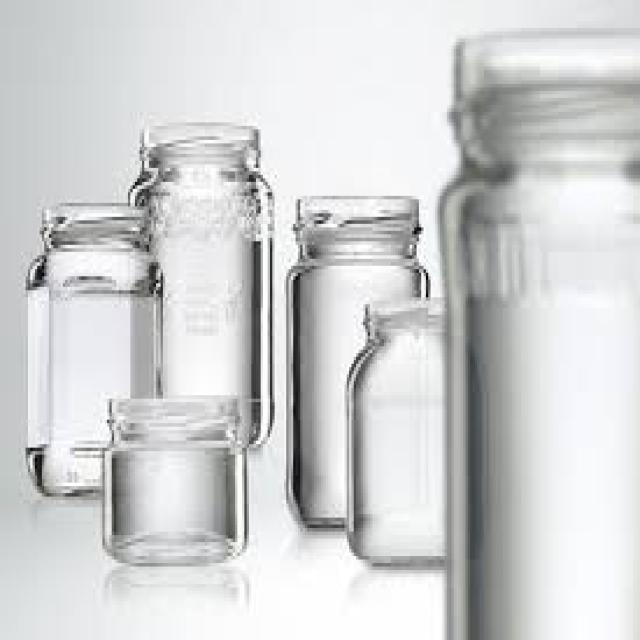glass: (438, 28, 638, 636), (284, 196, 426, 538), (126, 123, 272, 448), (26, 199, 161, 500), (345, 297, 484, 570), (100, 395, 247, 570)
